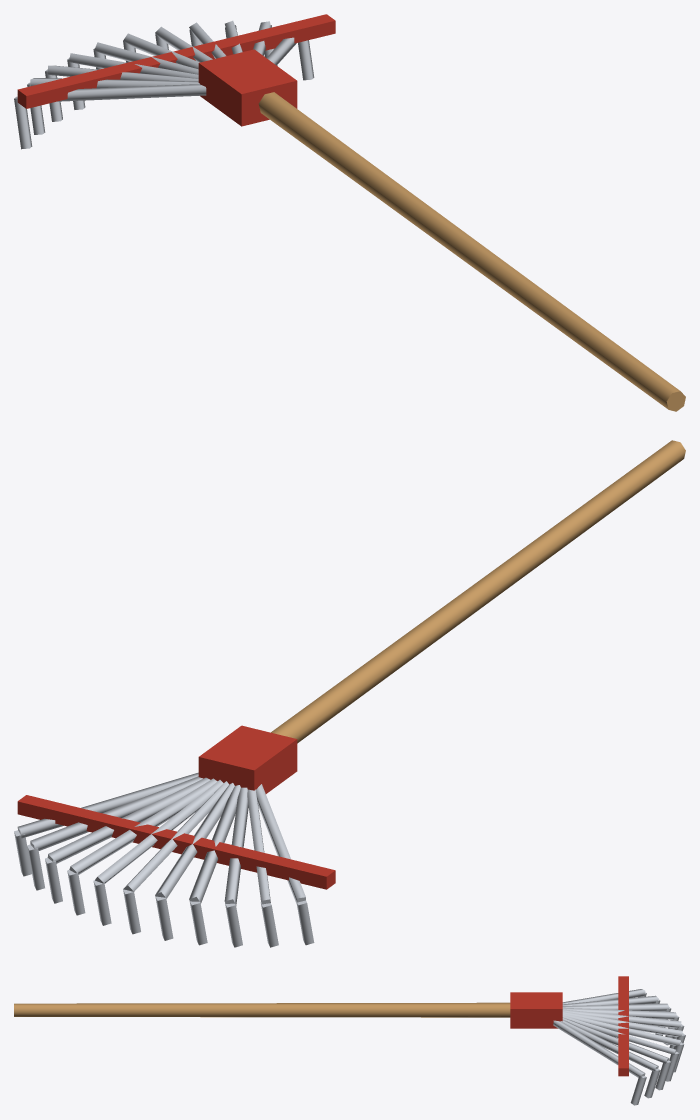
File: tool_rake.glb
The picture shows the model from 3 angles, top to bottom: view 1: azimuth 30°, elevation 25°; view 2: azimuth 150°, elevation 25°; view 3: azimuth 270°, elevation 25°; orthographic projection. The views are drawn at different scales.
Visible parts, largest first — view 1: _MeshInstance3D_1131, _MeshInstance3D_1155, _MeshInstance3D_1132, _MeshInstance3D_1133, _MeshInstance3D_1139, _MeshInstance3D_1137, _MeshInstance3D_1141, _MeshInstance3D_1135, _MeshInstance3D_1143; view 2: _MeshInstance3D_1131, _MeshInstance3D_1155, _MeshInstance3D_1132, _MeshInstance3D_1149, _MeshInstance3D_1147, _MeshInstance3D_1151, _MeshInstance3D_1145, _MeshInstance3D_1141, _MeshInstance3D_1153, _MeshInstance3D_1139, _MeshInstance3D_1143, _MeshInstance3D_1137 (+2 smaller); view 3: _MeshInstance3D_1131, _MeshInstance3D_1132, _MeshInstance3D_1155, _MeshInstance3D_1153, _MeshInstance3D_1143, _MeshInstance3D_1145, _MeshInstance3D_1141, _MeshInstance3D_1151, _MeshInstance3D_1149, _MeshInstance3D_1139, _MeshInstance3D_1147, _MeshInstance3D_1137 (+5 smaller).
Part boxes in pixels (<box>): _MeshInstance3D_1131: <box>258,92,685,411</box>; _MeshInstance3D_1155: <box>17,14,335,108</box>; _MeshInstance3D_1132: <box>198,49,297,126</box>; _MeshInstance3D_1133: <box>57,84,206,101</box>; _MeshInstance3D_1139: <box>69,53,198,78</box>; _MeshInstance3D_1137: <box>47,65,198,81</box>; _MeshInstance3D_1141: <box>94,42,198,74</box>; _MeshInstance3D_1135: <box>30,78,199,88</box>; _MeshInstance3D_1143: <box>123,33,199,69</box>; _MeshInstance3D_1131: <box>271,440,685,743</box>; _MeshInstance3D_1155: <box>17,795,335,889</box>; _MeshInstance3D_1132: <box>198,725,297,793</box>; _MeshInstance3D_1149: <box>47,777,210,863</box>; _MeshInstance3D_1147: <box>69,778,217,874</box>; _MeshInstance3D_1151: <box>30,776,202,850</box>; _MeshInstance3D_1145: <box>95,780,223,883</box>; _MeshInstance3D_1141: <box>155,783,234,898</box>; _MeshInstance3D_1153: <box>17,772,198,838</box>; _MeshInstance3D_1139: <box>189,785,240,903</box>; _MeshInstance3D_1143: <box>123,781,228,891</box>; _MeshInstance3D_1137: <box>224,787,248,905</box>; _MeshInstance3D_1131: <box>14,1002,510,1017</box>; _MeshInstance3D_1132: <box>510,992,562,1028</box>; _MeshInstance3D_1155: <box>618,976,628,1076</box>; _MeshInstance3D_1153: <box>553,1020,645,1077</box>; _MeshInstance3D_1143: <box>562,1011,682,1036</box>; _MeshInstance3D_1145: <box>562,1013,681,1045</box>; _MeshInstance3D_1141: <box>562,1009,681,1028</box>; _MeshInstance3D_1151: <box>561,1020,658,1071</box>; _MeshInstance3D_1149: <box>562,1017,669,1063</box>; _MeshInstance3D_1139: <box>562,1007,676,1019</box>; _MeshInstance3D_1147: <box>562,1015,676,1054</box>; _MeshInstance3D_1137: <box>562,1003,669,1011</box>.
Size of the model in its own units: 0.5 by 0.1577 by 1.54.
